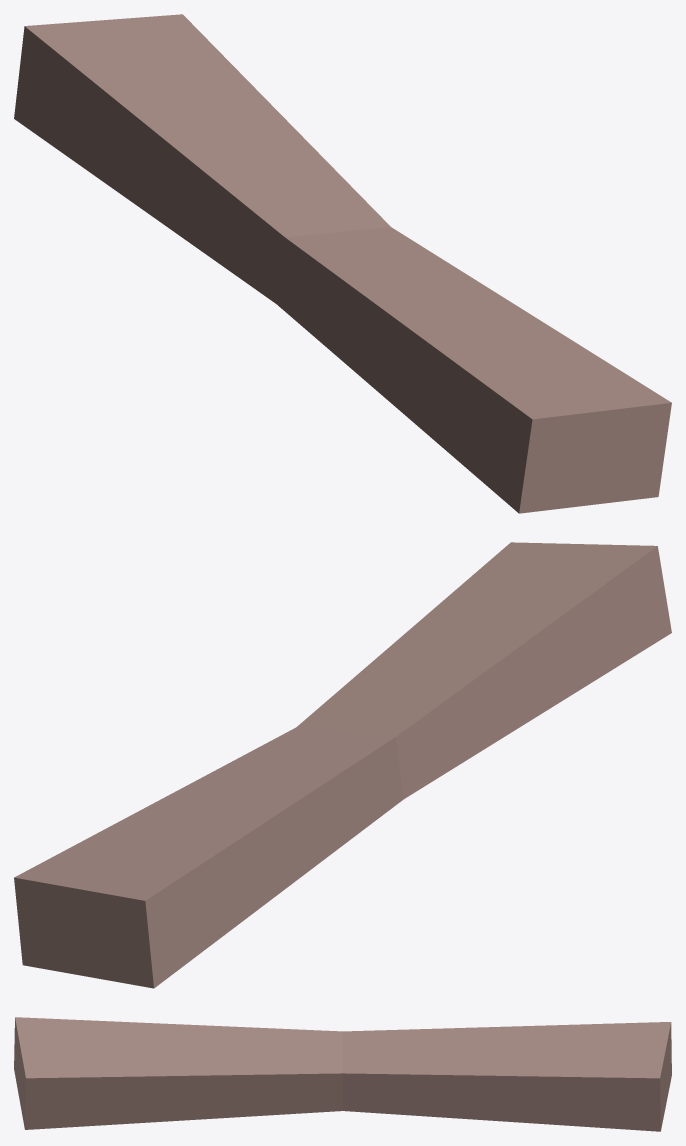
Rendered from porkRibBone01.fbx.
The picture shows the model from 3 angles, top to bottom: view 1: azimuth 30°, elevation 25°; view 2: azimuth 150°, elevation 25°; view 3: azimuth 270°, elevation 25°; orthographic projection. The views are drawn at different scales.
Visible parts, largest first — view 1: porkRibBone01; view 2: porkRibBone01; view 3: porkRibBone01.
Part boxes in pixels (x1=…): porkRibBone01: x1=14, y1=14, x2=671, y2=513; porkRibBone01: x1=14, y1=542, x2=671, y2=988; porkRibBone01: x1=14, y1=1017, x2=671, y2=1131.
Bounding box in the file's own units: 3.89 × 2.4 × 19.44.
1 material, 1 textured.
